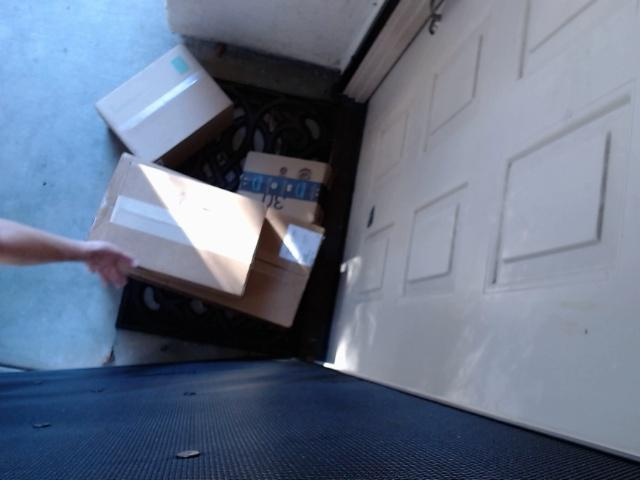box: (146, 177, 324, 337), (75, 158, 255, 295), (86, 36, 215, 162), (239, 132, 330, 216)
